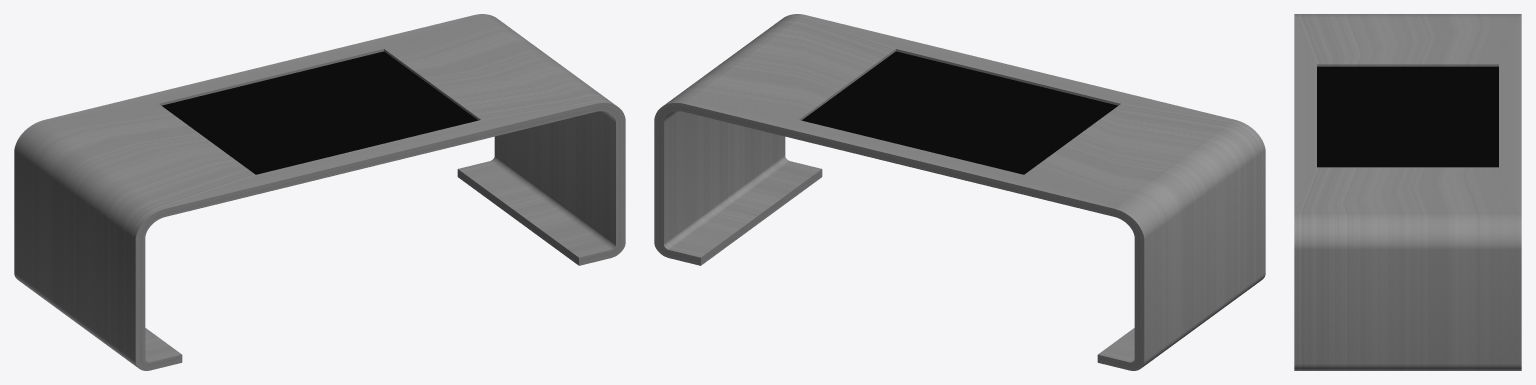
The model's file is meja rakit pc.fbx.
3 views of the same model, side by side, from view 1: azimuth 30°, elevation 25°; view 2: azimuth 150°, elevation 25°; view 3: azimuth 270°, elevation 25° (orthographic). The views are drawn at different scales.
Visible parts, largest first — view 1: Cube.004; view 2: Cube.004; view 3: Cube.004.
Part boxes in pixels (x1,y1,x2,y2): Cube.004: [14, 14, 625, 370]; Cube.004: [654, 14, 1265, 370]; Cube.004: [1294, 14, 1521, 370].
Size of the model in its own units: 312 by 96.16 by 134.
2 materials, 1 textured.
